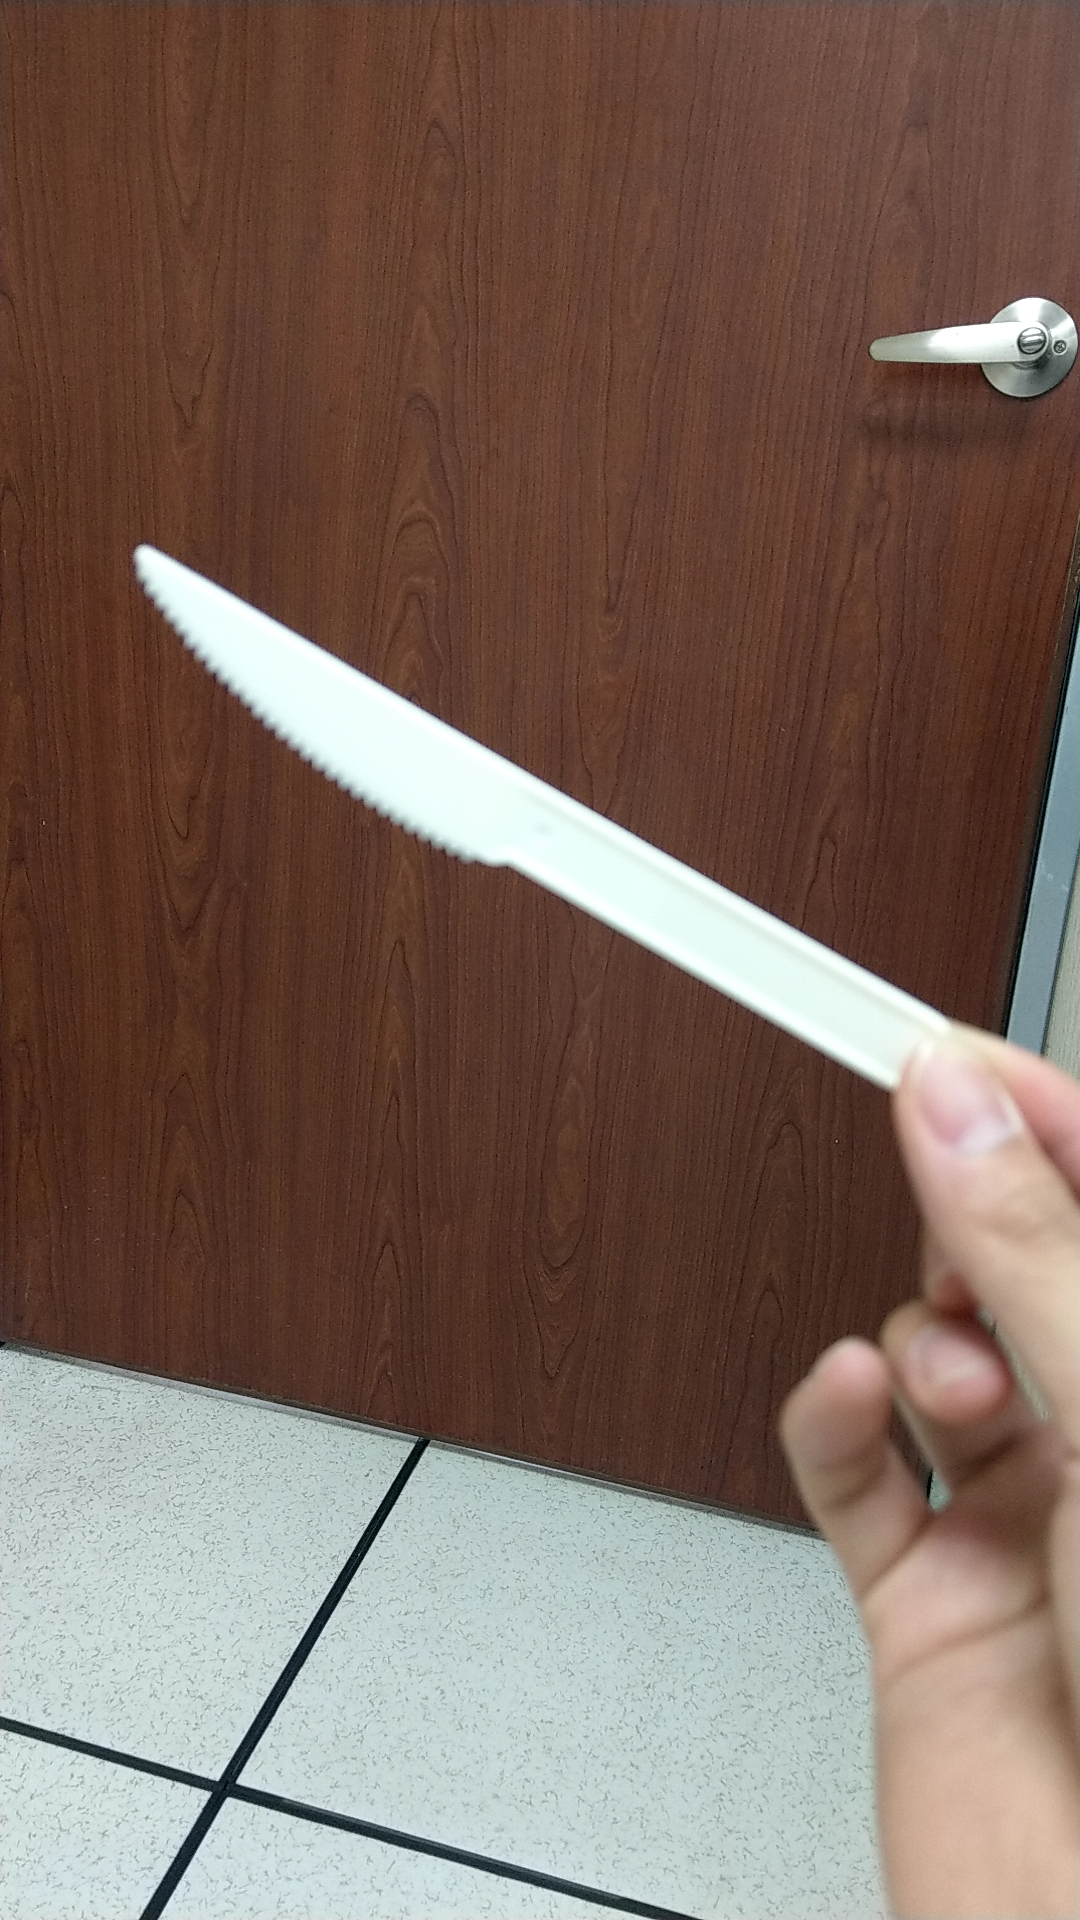knife: (94, 512, 934, 1093)
